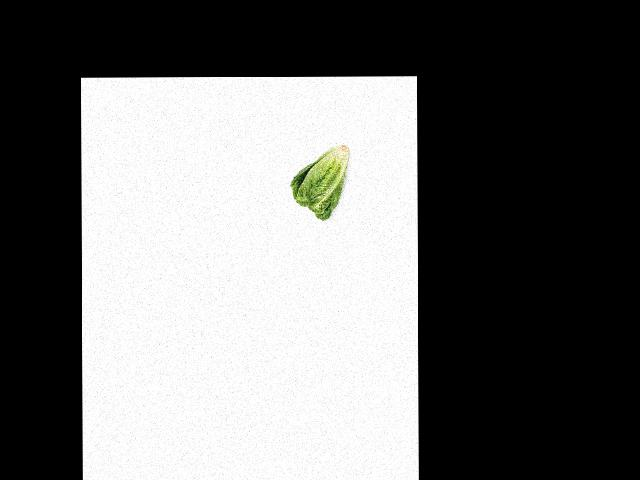lettuce: (291, 139, 351, 220)
